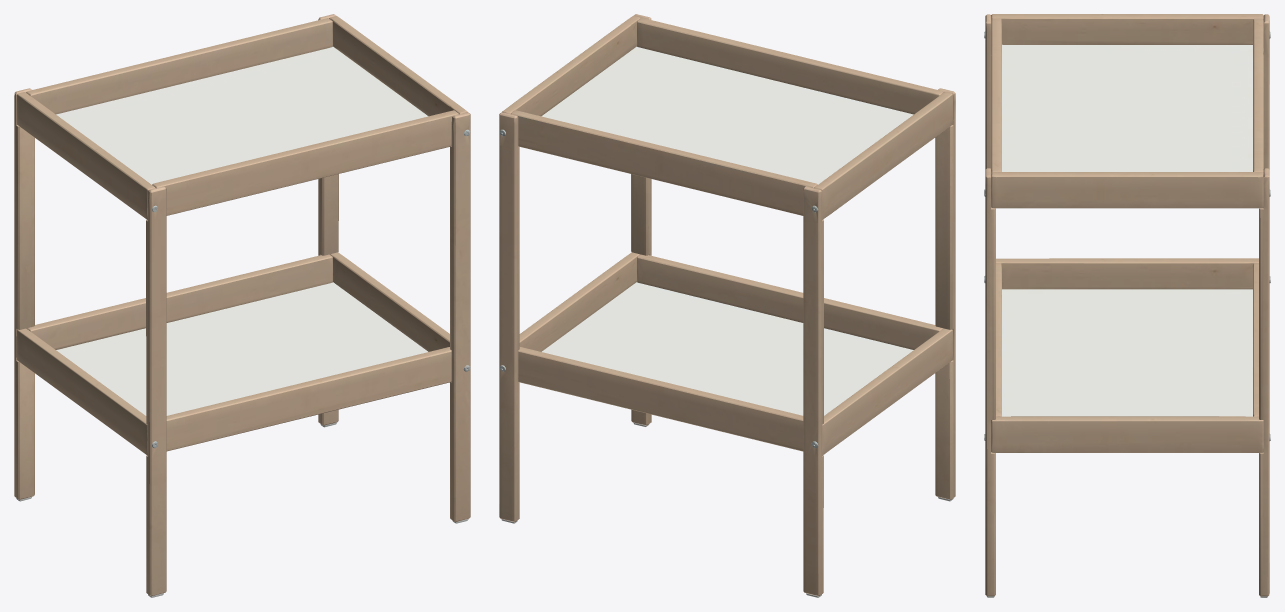
The picture shows the model from 3 angles, left to right: view 1: azimuth 30°, elevation 25°; view 2: azimuth 150°, elevation 25°; view 3: azimuth 270°, elevation 25°; orthographic projection. The views are drawn at different scales.
Visible parts, largest first — view 1: ASY_ART_00610614_S01_NV01; view 2: ASY_ART_00610614_S01_NV01; view 3: ASY_ART_00610614_S01_NV01.
Part boxes in pixels (x1,y1,x2,y2): ASY_ART_00610614_S01_NV01: (14, 14, 470, 597); ASY_ART_00610614_S01_NV01: (499, 14, 955, 597); ASY_ART_00610614_S01_NV01: (984, 14, 1270, 597).
Bounding box in the file's own units: 0.72 × 0.8745 × 0.536.
1 material, 1 textured.
